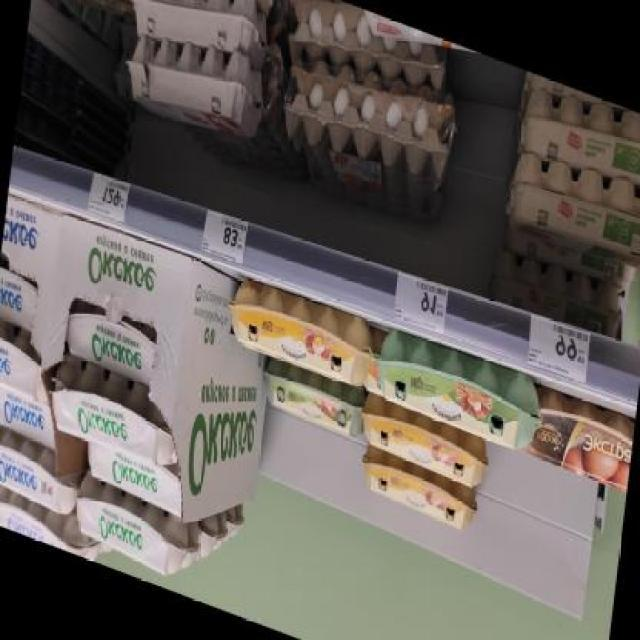egg: (374, 316, 548, 458), (224, 270, 378, 404), (504, 138, 640, 284), (517, 71, 640, 201), (496, 229, 634, 343), (45, 356, 178, 474), (63, 468, 192, 586), (527, 374, 636, 502), (345, 3, 512, 86), (359, 391, 492, 494), (355, 442, 483, 541), (257, 351, 366, 449), (60, 298, 160, 390), (0, 422, 83, 526), (85, 436, 184, 522), (0, 477, 91, 558), (0, 373, 60, 453), (0, 323, 50, 408), (138, 0, 276, 20), (0, 264, 40, 332), (44, 0, 146, 26)
